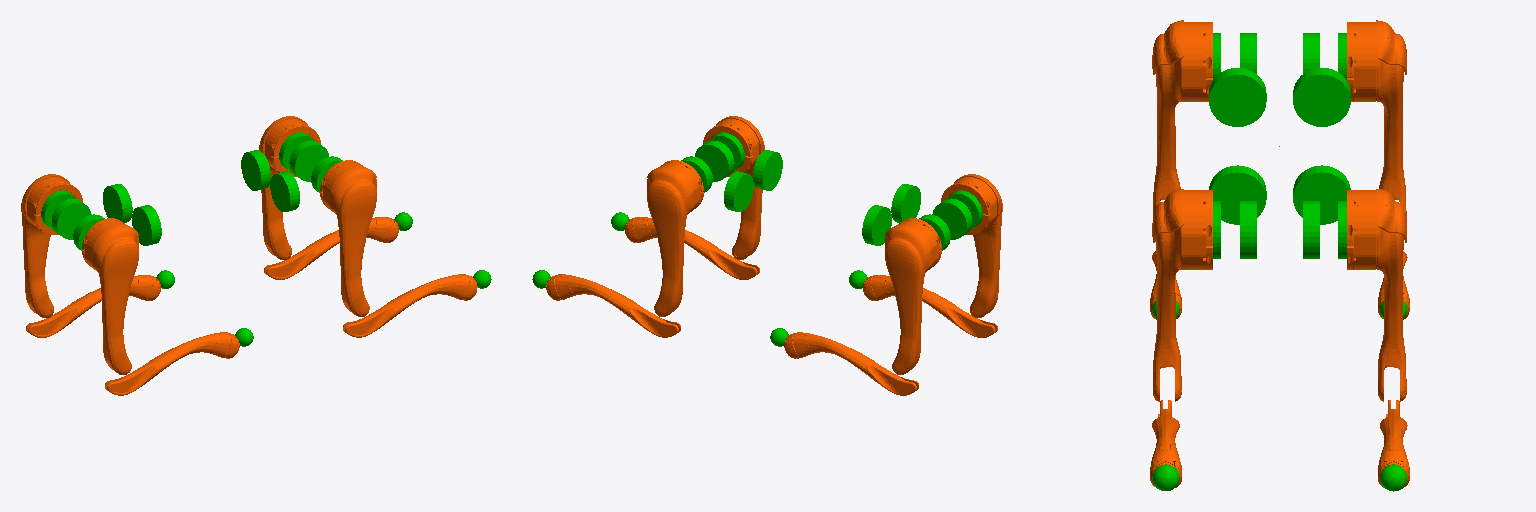
--- Render facts (derived) ---
3 views of the same robot in one strip: view 1: azimuth 30°, elevation 25°; view 2: azimuth 150°, elevation 25°; view 3: azimuth 270°, elevation 25° (orthographic).
Robot: aliengoZ1_description — 40 links, 39 joints (18 revolute, 21 fixed); root link base; default pose: all joints at 0 but 4 set to mid-range because 0 is outside their limits (FR_calf_joint = -1.71, FL_calf_joint = -1.71, RR_calf_joint = -1.71, RL_calf_joint = -1.71).
Visible links, largest first — view 1: RR_thigh, FR_thigh, RL_thigh, FL_thigh, RR_calf, FR_calf, FL_calf, RL_calf, FL_calf_rotor, RL_calf_rotor, FL_hip_rotor, FR_hip_rotor (+2 smaller); view 2: FL_thigh, RL_thigh, RR_thigh, FR_thigh, RL_calf, FL_calf, FR_calf, RR_calf, RR_calf_rotor, FR_calf_rotor, FR_hip_rotor, FL_hip_rotor (+2 smaller); view 3: FR_thigh, FL_thigh, RR_thigh, RL_thigh, RL_hip_rotor, RR_hip_rotor, FR_hip_rotor, FL_hip_rotor, FR_calf, FL_calf, FR_calf_rotor, FL_calf_rotor (+4 smaller).
Boxes of the visible links, bbox=[...] form: RR_thigh: bbox=[82, 218, 138, 374]; FR_thigh: bbox=[320, 160, 376, 316]; RL_thigh: bbox=[21, 174, 82, 317]; FL_thigh: bbox=[259, 116, 320, 259]; RR_calf: bbox=[105, 332, 239, 395]; FR_calf: bbox=[343, 274, 477, 337]; FL_calf: bbox=[264, 217, 398, 279]; RL_calf: bbox=[26, 275, 160, 337]; FL_calf_rotor: bbox=[289, 140, 328, 181]; RL_calf_rotor: bbox=[52, 199, 91, 239]; FL_hip_rotor: bbox=[241, 150, 270, 190]; FR_hip_rotor: bbox=[270, 171, 299, 211]; FL_thigh: bbox=[647, 160, 703, 316]; RL_thigh: bbox=[885, 218, 941, 374]; RR_thigh: bbox=[941, 174, 1002, 317]; FR_thigh: bbox=[703, 116, 764, 259]; RL_calf: bbox=[784, 332, 918, 395]; FL_calf: bbox=[546, 274, 680, 337]; FR_calf: bbox=[625, 217, 759, 279]; RR_calf: bbox=[863, 275, 997, 337]; RR_calf_rotor: bbox=[932, 198, 971, 239]; FR_calf_rotor: bbox=[695, 140, 734, 181]; FR_hip_rotor: bbox=[753, 150, 782, 190]; FL_hip_rotor: bbox=[724, 171, 753, 211]; FR_thigh: bbox=[1152, 189, 1212, 401]; FL_thigh: bbox=[1347, 189, 1406, 401]; RR_thigh: bbox=[1152, 20, 1212, 214]; RL_thigh: bbox=[1347, 20, 1406, 217]; RL_hip_rotor: bbox=[1293, 68, 1350, 126]; RR_hip_rotor: bbox=[1209, 68, 1266, 126]; FR_hip_rotor: bbox=[1209, 165, 1266, 224]; FL_hip_rotor: bbox=[1293, 165, 1350, 224]; FR_calf: bbox=[1150, 400, 1181, 487]; FL_calf: bbox=[1378, 400, 1409, 488]; FR_calf_rotor: bbox=[1240, 201, 1256, 258]; FL_calf_rotor: bbox=[1303, 201, 1319, 258].
Size in the robot's own frame: 0.7938 by 0.3152 by 0.3199 metres.
8 mesh visuals loaded from 14 distinct referenced files (3 Collada DAE); not drawn: 14 (reference not matched to a file when rendering).

robot.urdf — aliengoZ1_description:
<?xml version="1.0" ?>
<!-- =================================================================================== -->
<!-- |    This document was autogenerated by xacro from robot.xacro                    | -->
<!-- |    EDITING THIS FILE BY HAND IS NOT RECOMMENDED                                 | -->
<!-- =================================================================================== -->
<robot name="aliengoZ1_description">
  <!-- <gazebo>
    <plugin filename="libgazebo_ros_control.so" name="gazebo_ros_control">
      <robotNamespace>/aliengoZ1_gazebo</robotNamespace>
      <robotSimType>gazebo_ros_control/DefaultRobotHWSim</robotSimType>
    </plugin>
  </gazebo> -->

  <!-- <gazebo>
    <plugin filename="libLinkPlot3DPlugin.so" name="3dplot">
      <frequency>10</frequency>
      <plot>
        <link>base</link>
        <pose>0 0 0 0 0 0</pose>
        <material>Gazebo/Yellow</material>
      </plot>
    </plugin>
  </gazebo> -->
  <!-- Show the trajectory of foot. You can add another trajectory about another foot. -->
  <!-- <gazebo>
        <plugin name="3dplot" filename="libLinkPlot3DPlugin.so">
            <frequency>100</frequency>
            <plot>
                <link>FL_foot</link>
                <pose>0 0 0 0 0 0</pose>
                <material>Gazebo/Green</material>
            </plot>
        </plugin>
    </gazebo> -->
  <!-- <gazebo>
    <plugin filename="libgazebo_ros_force.so" name="gazebo_ros_force">
      <bodyName>trunk</bodyName>
      <topicName>/apply_force/trunk</topicName>
    </plugin>
  </gazebo>
  <gazebo reference="imu_link">
    <gravity>true</gravity>
    <sensor name="imu_sensor" type="imu">
      <always_on>true</always_on>
      <update_rate>1000</update_rate>
      <visualize>true</visualize>
      <topic>__default_topic__</topic>
      <plugin filename="libgazebo_ros_imu_sensor.so" name="imu_plugin">
        <topicName>trunk_imu</topicName>
        <bodyName>imu_link</bodyName>
        <updateRateHZ>1000.0</updateRateHZ>
        <gaussianNoise>0.0</gaussianNoise>
        <xyzOffset>0 0 0</xyzOffset>
        <rpyOffset>0 0 0</rpyOffset>
        <frameName>imu_link</frameName>
      </plugin>
      <pose>0 0 0 0 0 0</pose>
    </sensor>
  </gazebo> -->
  <!-- Foot contacts. -->
  <!-- <gazebo reference="FR_calf">
    <sensor name="FR_foot_contact" type="contact">
      <update_rate>100</update_rate>
      <plugin filename="libunitreeFootContactPlugin.so" name="contactPlugin"/>
      <contact>
        <collision>FR_calf_fixed_joint_lump__FR_foot_collision_1</collision>
      </contact>
    </sensor>
  </gazebo>
  <gazebo reference="FL_calf">
    <sensor name="FL_foot_contact" type="contact">
      <update_rate>100</update_rate>
      <plugin filename="libunitreeFootContactPlugin.so" name="contactPlugin"/>
      <contact>
        <collision>FL_calf_fixed_joint_lump__FL_foot_collision_1</collision>
      </contact>
    </sensor>
  </gazebo>
  <gazebo reference="RR_calf">
    <sensor name="RR_foot_contact" type="contact">
      <update_rate>100</update_rate>
      <plugin filename="libunitreeFootContactPlugin.so" name="contactPlugin"/>
      <contact>
        <collision>RR_calf_fixed_joint_lump__RR_foot_collision_1</collision>
      </contact>
    </sensor>
  </gazebo>
  <gazebo reference="RL_calf">
    <sensor name="RL_foot_contact" type="contact">
      <update_rate>100</update_rate>
      <plugin filename="libunitreeFootContactPlugin.so" name="contactPlugin"/>
      <contact>
        <collision>RL_calf_fixed_joint_lump__RL_foot_collision_1</collision>
      </contact>
    </sensor>
  </gazebo> -->
  <!-- Visualization of Foot contacts. -->
  <!-- <gazebo reference="FR_foot">
    <visual>
      <plugin filename="libunitreeDrawForcePlugin.so" name="drawForcePlugin">
        <topicName>FR_foot_contact</topicName>
      </plugin>
    </visual>
  </gazebo>
  <gazebo reference="FL_foot">
    <visual>
      <plugin filename="libunitreeDrawForcePlugin.so" name="drawForcePlugin">
        <topicName>FL_foot_contact</topicName>
      </plugin>
    </visual>
  </gazebo>
  <gazebo reference="RR_foot">
    <visual>
      <plugin filename="libunitreeDrawForcePlugin.so" name="drawForcePlugin">
        <topicName>RR_foot_contact</topicName>
      </plugin>
    </visual>
  </gazebo>
  <gazebo reference="RL_foot">
    <visual>
      <plugin filename="libunitreeDrawForcePlugin.so" name="drawForcePlugin">
        <topicName>RL_foot_contact</topicName>
      </plugin>
    </visual>
  </gazebo>
  <gazebo reference="base">
    <material>Gazebo/Green</material>
    <turnGravityOff>false</turnGravityOff>
  </gazebo>
  <gazebo reference="trunk">
    <mu1>0.2</mu1>
    <mu2>0.2</mu2>
    <kp value="1000000.0"/>
    <kd value="1.0"/>
  </gazebo>
  <gazebo reference="stick_link">
    <mu1>0.2</mu1>
    <mu2>0.2</mu2>
    <material>Gazebo/White</material>
  </gazebo>
  <gazebo reference="imu_link">
    <mu1>0.2</mu1>
    <mu2>0.2</mu2>
    <material>Gazebo/Red</material>
  </gazebo> -->
  <!-- FL leg -->
  <!-- <gazebo reference="FL_hip">
    <mu1>0.2</mu1>
    <mu2>0.2</mu2>
    <material>Gazebo/DarkGrey</material>
  </gazebo>
  <gazebo reference="FL_thigh">
    <mu1>0.2</mu1>
    <mu2>0.2</mu2>
    <self_collide>1</self_collide>
    <material>Gazebo/DarkGrey</material>
    <kp value="1000000.0"/>
    <kd value="1.0"/>
  </gazebo>
  <gazebo reference="FL_calf">
    <mu1>0.2</mu1>
    <mu2>0.2</mu2>
    <self_collide>1</self_collide>
  </gazebo>
  <gazebo reference="FL_foot">
    <mu1>0.6</mu1>
    <mu2>0.6</mu2>
    <self_collide>1</self_collide>
    <material>Gazebo/DarkGrey</material>
    <kp value="1000000.0"/>
    <kd value="1.0"/>
  </gazebo> -->
  <!-- FR leg -->
  <!-- <gazebo reference="FR_hip">
    <mu1>0.2</mu1>
    <mu2>0.2</mu2>
    <material>Gazebo/DarkGrey</material>
  </gazebo>
  <gazebo reference="FR_thigh">
    <mu1>0.2</mu1>
    <mu2>0.2</mu2>
    <self_collide>1</self_collide>
    <material>Gazebo/DarkGrey</material>
    <kp value="1000000.0"/>
    <kd value="1.0"/>
  </gazebo>
  <gazebo reference="FR_calf">
    <mu1>0.2</mu1>
    <mu2>0.2</mu2>
    <self_collide>1</self_collide>
  </gazebo>
  <gazebo reference="FR_foot">
    <mu1>0.6</mu1>
    <mu2>0.6</mu2>
    <self_collide>1</self_collide>
    <material>Gazebo/DarkGrey</material>
    <kp value="1000000.0"/>
    <kd value="1.0"/> -->
  <!-- </gazebo> -->
  <!-- RL leg -->
  <!-- <gazebo reference="RL_hip">
    <mu1>0.2</mu1>
    <mu2>0.2</mu2>
    <material>Gazebo/DarkGrey</material>
  </gazebo>
  <gazebo reference="RL_thigh">
    <mu1>0.2</mu1>
    <mu2>0.2</mu2>
    <self_collide>1</self_collide>
    <material>Gazebo/DarkGrey</material>
    <kp value="1000000.0"/>
    <kd value="1.0"/>
  </gazebo>
  <gazebo reference="RL_calf">
    <mu1>0.2</mu1>
    <mu2>0.2</mu2>
    <self_collide>1</self_collide>
  </gazebo>
  <gazebo reference="RL_foot">
    <mu1>0.6</mu1>
    <mu2>0.6</mu2>
    <self_collide>1</self_collide>
    <material>Gazebo/DarkGrey</material>
    <kp value="1000000.0"/>
    <kd value="1.0"/>
  </gazebo> -->
  <!-- RR leg -->
  <!-- <gazebo reference="RR_hip">
    <mu1>0.2</mu1>
    <mu2>0.2</mu2>
    <material>Gazebo/DarkGrey</material>
  </gazebo>
  <gazebo reference="RR_thigh">
    <mu1>0.2</mu1>
    <mu2>0.2</mu2>
    <self_collide>1</self_collide>
    <material>Gazebo/DarkGrey</material>
    <kp value="1000000.0"/>
    <kd value="1.0"/>
  </gazebo>
  <gazebo reference="RR_calf">
    <mu1>0.2</mu1>
    <mu2>0.2</mu2>
    <self_collide>1</self_collide>
  </gazebo>
  <gazebo reference="RR_foot">
    <mu1>0.6</mu1>
    <mu2>0.6</mu2>
    <self_collide>1</self_collide>
    <material>Gazebo/DarkGrey</material>
    <kp value="1000000.0"/>
    <kd value="1.0"/>
  </gazebo> -->
  <!-- ros_control plugin -->
  <!-- <gazebo reference="arm_link04">
    <self_collide>true</self_collide>
  </gazebo>
  <gazebo reference="arm_link05">
    <self_collide>true</self_collide>
  </gazebo>
  <gazebo reference="arm_link06">
    <self_collide>true</self_collide>
  </gazebo> -->
  <material name="black">
    <color rgba="0.0 0.0 0.0 1.0"/>
  </material>
  <material name="blue">
    <color rgba="0.0 0.0 0.8 1.0"/>
  </material>
  <material name="green">
    <color rgba="0.0 0.8 0.0 1.0"/>
  </material>
  <material name="grey">
    <color rgba="0.2 0.2 0.2 1.0"/>
  </material>
  <material name="silver">
    <color rgba="0.9137254901960784 0.9137254901960784 0.8470588235294118 1.0"/>
  </material>
  <material name="orange">
    <color rgba="1.0 0.4235294117647059 0.0392156862745098 1.0"/>
  </material>
  <material name="brown">
    <color rgba="0.8705882352941177 0.8117647058823529 0.7647058823529411 1.0"/>
  </material>
  <material name="red">
    <color rgba="0.8 0.0 0.0 1.0"/>
  </material>
  <material name="white">
    <color rgba="1.0 1.0 1.0 1.0"/>
  </material>
  <link name="base">
    <visual>
      <origin rpy="0 0 0" xyz="0 0 0"/>
      <geometry>
        <box size="0.001 0.001 0.001"/>
      </geometry>
    </visual>
  </link>
  <joint name="floating_base" type="fixed">
    <origin rpy="0 0 0" xyz="0 0 0"/>
    <parent link="base"/>
    <child link="trunk"/>
  </joint>
  <link name="trunk">
    <visual>
      <origin rpy="0 0 0" xyz="0 0 0"/>
      <geometry>
        <mesh filename="../meshes/trunk.dae" scale="1 1 1"/>
      </geometry>
      <material name="orange"/>
    </visual>
    <collision>
      <origin rpy="0 0 0" xyz="0 0 0"/>
      <geometry>
        <box size="0.647 0.15 0.112"/>
      </geometry>
    </collision>
    <inertial>
      <origin rpy="0 0 0" xyz="0.008811 0.003839 0.000273"/>
      <mass value="11.644"/>
      <inertia ixx="0.051944892" ixy="0.001703617" ixz="0.000235941" iyy="0.24693924" iyz="0.000119783" izz="0.270948307"/>
    </inertial>
  </link>
  <joint name="imu_joint" type="fixed">
    <parent link="trunk"/>
    <child link="imu_link"/>
    <origin rpy="0 0 0" xyz="0 0 0"/>
  </joint>
  <link name="imu_link">
    <inertial>
      <mass value="0.001"/>
      <origin rpy="0 0 0" xyz="0 0 0"/>
      <inertia ixx="0.0001" ixy="0" ixz="0" iyy="0.000001" iyz="0" izz="0.0001"/>
    </inertial>
    <visual>
      <origin rpy="0 0 0" xyz="0 0 0"/>
      <geometry>
        <box size="0.001 0.001 0.001"/>
      </geometry>
      <material name="red"/>
    </visual>
    <collision>
      <origin rpy="0 0 0" xyz="0 0 0"/>
      <geometry>
        <box size=".001 .001 .001"/>
      </geometry>
    </collision>
  </link>
   --&gt;

    
  <joint name="trunk_arm_joint0" type="fixed" dont_collapse="true">
    <origin rpy="0 0 0" xyz="0.2535 0 0.056"/>
    <parent link="trunk"/>
    <child link="arm_link00"/>
  </joint>
  <link name="arm_link00">
    <visual>
      <origin rpy="0 0 0" xyz="0 0 0"/>
      <geometry>
        <mesh filename="../meshes/z1_description/meshes/visual/z1_Link00.dae" scale="1 1 1"/>
      </geometry>
    </visual>
    <collision>
      <geometry>
        <cylinder length="0.051" radius="0.0325"/>
      </geometry>
      <origin rpy="0 0 0" xyz="0 0 0.0255"/>
    </collision>
    <inertial>
      <origin rpy="0 0 0" xyz="-0.00334984 -0.00013615 0.02495843"/>
      <mass value="0.47247481"/>
      <inertia ixx="0.00037937" ixy="-3.5e-07" ixz="-1.037e-05" iyy="0.00041521" iyz="-9.9e-07" izz="0.00053066"/>
    </inertial>
  </link>
  <joint name="arm_joint1" type="revolute">
    <origin rpy="0 0 0" xyz="0 0 0.0585"/>
    <parent link="arm_link00"/>
    <child link="arm_link01"/>
    <axis xyz="0 0 1"/>
    <dynamics damping="1.0" friction="1.0"/>
    <limit effort="30.0" lower="-2.6179938779914944" upper="2.6179938779914944" velocity="3.1415"/>
  </joint>
  <link name="arm_link01">
    <visual>
      <origin rpy="0 0 0" xyz="0 0 0"/>
      <geometry>
        <mesh filename="../meshes/z1_description/meshes/visual/z1_Link01.dae" scale="1 1 1"/>
      </geometry>
    </visual>
    <collision>
      <geometry>
        <cylinder length="0.102" radius="0.0325"/>
      </geometry>
      <origin rpy="0 0 0" xyz="0 0 0"/>
    </collision>
    <inertial>
      <origin rpy="0 0 0" xyz="2.47e-06 -0.00025198 0.02317169"/>
      <mass value="0.67332551"/>
      <inertia ixx="0.00128328" ixy="-6e-08" ixz="-4e-07" iyy="0.00071931" iyz="5e-07" izz="0.00083936"/>
    </inertial>
  </link>
  <joint name="arm_joint2" type="revolute">
    <origin rpy="0 0 0" xyz="0 0 0.045"/>
    <parent link="arm_link01"/>
    <child link="arm_link02"/>
    <axis xyz="0 1 0"/>
    <dynamics damping="2.0" friction="2.0"/>
    <limit effort="60.0" lower="0.0" upper="2.9670597283903604" velocity="3.1415"/>
  </joint>
  <link name="arm_link02">
    <visual>
      <origin rpy="0 0 0" xyz="0 0 0"/>
      <geometry>
        <mesh filename="../meshes/z1_description/meshes/visual/z1_Link02.dae" scale="1 1 1"/>
      </geometry>
    </visual>
    <collision>
      <geometry>
        <cylinder length="0.102" radius="0.0325"/>
      </geometry>
      <origin rpy="1.5707963267948966 0 0" xyz="0 0 0"/>
    </collision>
    <collision>
      <geometry>
        <cylinder length="0.235" radius="0.0225"/>
      </geometry>
      <origin rpy="0 1.5707963267948966 0" xyz="-0.16249999999999998 0 0"/>
    </collision>
    <collision>
      <geometry>
        <cylinder length="0.051" radius="0.0325"/>
      </geometry>
      <origin rpy="1.5707963267948966 0 0" xyz="-0.35 0 0"/>
    </collision>
    <inertial>
      <origin rpy="0 0 0" xyz="-0.11012601 0.00240029 0.00158266"/>
      <mass value="1.19132258"/>
      <inertia ixx="0.00102138" ixy="0.00062358" ixz="5.13e-06" iyy="0.02429457" iyz="-2.1e-06" izz="0.02466114"/>
    </inertial>
  </link>
  <joint name="arm_joint3" type="revolute">
    <origin rpy="0 0 0" xyz="-0.35 0 0"/>
    <parent link="arm_link02"/>
    <child link="arm_link03"/>
    <axis xyz="0 1 0"/>
    <dynamics damping="1.0" friction="1.0"/>
    <limit effort="30.0" lower="-2.8797932657906435" upper="0.0" velocity="3.1415"/>
  </joint>
  <link name="arm_link03">
    <visual>
      <origin rpy="0 0 0" xyz="0 0 0"/>
      <geometry>
        <mesh filename="../meshes/z1_description/meshes/visual/z1_Link03.dae" scale="1 1 1"/>
      </geometry>
    </visual>
    <collision>
      <geometry>
        <cylinder length="0.116" radius="0.02"/>
      </geometry>
      <origin rpy="0 1.5707963267948966 0" xyz="0.128 0 0.055"/>
    </collision>
    <collision>
      <geometry>
        <cylinder length="0.059" radius="0.0325"/>
      </geometry>
      <origin rpy="0 1.5707963267948966 1.5707963267948966" xyz="0.2205 0 0.055"/>
    </collision>
    <inertial>
      <origin rpy="0 0 0" xyz="0.10609208 -0.00541815 0.03476383"/>
      <mass value="0.83940874"/>
      <inertia ixx="0.00108061" ixy="-8.669e-05" ixz="-0.00208102" iyy="0.00954238" iyz="-1.332e-05" izz="0.00886621"/>
    </inertial>
  </link>
  <joint name="arm_joint4" type="revolute">
    <origin rpy="0 0 0" xyz="0.218 0 0.057"/>
    <parent link="arm_link03"/>
    <child link="arm_link04"/>
    <axis xyz="0 1 0"/>
    <dynamics damping="1.0" friction="1.0"/>
    <limit effort="30.0" lower="-1.5184364492350666" upper="1.5184364492350666" velocity="3.1415"/>
  </joint>
  <link name="arm_link04">
    <visual>
      <origin rpy="0 0 0" xyz="0 0 0"/>
      <geometry>
        <mesh filename="../meshes/z1_description/meshes/visual/z1_Link04.dae" scale="1 1 1"/>
      </geometry>
    </visual>
    <collision>
      <geometry>
        <cylinder length="0.067" radius="0.0325"/>
      </geometry>
      <origin rpy="0 0 0" xyz="0.072 0 0"/>
    </collision>
    <inertial>
      <origin rpy="0 0 0" xyz="0.04366681 0.00364738 -0.00170192"/>
      <mass value="0.56404563"/>
      <inertia ixx="0.00031576" ixy="8.13e-05" ixz="4.091e-05" iyy="0.00092996" iyz="-5.96e-06" izz="0.00097912"/>
    </inertial>
  </link>
  <joint name="arm_joint5" type="revolute">
    <origin rpy="0 0 0" xyz="0.07 0.0 0.0"/>
    <parent link="arm_link04"/>
    <child link="arm_link05"/>
    <axis xyz="0 0 1"/>
    <dynamics damping="1.0" friction="1.0"/>
    <limit effort="30.0" lower="-1.3439035240356338" upper="1.3439035240356338" velocity="3.1415"/>
  </joint>
  <link name="arm_link05">
    <visual>
      <origin rpy="0 0 0" xyz="0 0 0"/>
      <geometry>
        <mesh filename="../meshes/z1_description/meshes/visual/z1_Link05.dae" scale="1 1 1"/>
      </geometry>
    </visual>
    <inertial>
      <origin rpy="0 0 0" xyz="0.03121533 0.0 0.00646316"/>
      <mass value="0.38938492"/>
      <inertia ixx="0.00017605" ixy="4e-07" ixz="5.689e-05" iyy="0.00055896" iyz="-1.3e-07" izz="0.0005386"/>
    </inertial>
  </link>
  <joint name="arm_joint6" type="revolute">
    <origin rpy="0 0 0" xyz="0.0492 0.0 0.0"/>
    <parent link="arm_link05"/>
    <child link="arm_link06"/>
    <axis xyz="1 0 0"/>
    <dynamics damping="1.0" friction="1.0"/>
    <limit effort="30.0" lower="-2.792526803190927" upper="2.792526803190927" velocity="3.1415"/>
  </joint>
  <link name="arm_link06">
    <visual>
      <origin rpy="0 0 0" xyz="0 0 0"/>
      <geometry>
        <mesh filename="../meshes/z1_description/meshes/visual/z1_Link06.dae" scale="1 1 1"/>
      </geometry>
    </visual>
    <collision>
      <geometry>
        <cylinder length="0.051" radius="0.0325"/>
      </geometry>
      <origin rpy="0 1.5707963267948966 0" xyz="0.0255 0 0"/>
    </collision>
    <inertial>
      <origin rpy="0 0 0" xyz="0.0241569 -0.00017355 -0.00143876"/>
      <mass value="0.28875807"/>
      <inertia ixx="0.00018328" ixy="1.22e-06" ixz="5.4e-07" iyy="0.0001475" iyz="8e-08" izz="0.0001468"/>
    </inertial>
  </link>
  <joint name="gripperStator" type="fixed">
    <origin rpy="0 0 0" xyz="0.051 0.0 0.0"/>
    <parent link="arm_link06"/>
    <child link="gripperStator"/>
  </joint>
  <link name="gripperStator">
    <visual>
      <geometry>
        <mesh filename="../meshes/z1_description/meshes/visual/z1_GripperStator.dae" scale="1 1 1"/>
      </geometry>
    </visual>
    <collision>
      <geometry>
        <mesh filename="../meshes/z1_description/meshes/collision/z1_GripperStator.STL" scale="1 1 1"/>
      </geometry>
    </collision>
    <inertial>
      <origin rpy="0 0 0" xyz="0.04764427 -0.00035819 -0.00249162"/>
      <mass value="0.52603655"/>
      <inertia ixx="0.00038683" ixy="-3.59e-06" ixz="7.662e-05" iyy="0.00068614" iyz="2.09e-06" izz="0.00066293"/>
    </inertial>
  </link>
  <joint name="jointGripper" type="fixed" dont_collapse="true">
    <origin rpy="0 0 0" xyz="0.049 0.0 0"/>
    <parent link="gripperStator"/>
    <child link="gripperMover"/>
    <axis xyz="0 1 0"/>
    <dynamics damping="1.0" friction="1.0"/>
    <limit effort="30.0" lower="-1.5707963267948966" upper="0.0" velocity="3.1415"/>
  </joint>
  <link name="gripperMover">
    <visual>
      <geometry>
        <mesh filename="../meshes/z1_description/meshes/visual/z1_GripperMover.dae" scale="1 1 1"/>
      </geometry>
    </visual>
    <collision>
      <geometry>
        <mesh filename="../meshes/z1_description/meshes/collision/z1_GripperMover.STL" scale="1 1 1"/>
      </geometry>
    </collision>
    <inertial>
      <origin rpy="0 0 0" xyz="0.01320633 0.00476708 0.00380534"/>
      <mass value="0.27621302"/>
      <inertia ixx="0.00017716" ixy="1.683e-05" ixz="-1.786e-05" iyy="0.00026787" iyz="2.62e-06" izz="0.00035728"/>
    </inertial>
  </link>
  <transmission name="JointTransGripper">
    <type>transmission_interface/SimpleTransmission</type>
    <joint name="jointGripper">
      <hardwareInterface>hardware_interface/EffortJointInterface</hardwareInterface>
    </joint>
    <actuator name="ActuatorGripper">
      <hardwareInterface>hardware_interface/EffortJointInterface</hardwareInterface>
      <mechanicalReduction>1</mechanicalReduction>
    </actuator>
  </transmission>
  <!-- <gazebo reference="gripperStator">
    <self_collide>true</self_collide>
  </gazebo>
  <gazebo reference="gripperMover">
    <self_collide>true</self_collide>
  </gazebo> -->
  <transmission name="JointTrans1">
    <type>transmission_interface/SimpleTransmission</type>
    <joint name="joint1">
      <hardwareInterface>hardware_interface/EffortJointInterface</hardwareInterface>
    </joint>
    <actuator name="Actuator1">
      <hardwareInterface>hardware_interface/EffortJointInterface</hardwareInterface>
      <mechanicalReduction>1</mechanicalReduction>
    </actuator>
  </transmission>
  <transmission name="JointTrans2">
    <type>transmission_interface/SimpleTransmission</type>
    <joint name="joint2">
      <hardwareInterface>hardware_interface/EffortJointInterface</hardwareInterface>
    </joint>
    <actuator name="Actuator2">
      <hardwareInterface>hardware_interface/EffortJointInterface</hardwareInterface>
      <mechanicalReduction>1</mechanicalReduction>
    </actuator>
  </transmission>
  <transmission name="JointTrans3">
    <type>transmission_interface/SimpleTransmission</type>
    <joint name="joint3">
      <hardwareInterface>hardware_interface/EffortJointInterface</hardwareInterface>
    </joint>
    <actuator name="Actuator3">
      <hardwareInterface>hardware_interface/EffortJointInterface</hardwareInterface>
      <mechanicalReduction>1</mechanicalReduction>
    </actuator>
  </transmission>
  <transmission name="JointTrans4">
    <type>transmission_interface/SimpleTransmission</type>
    <joint name="joint4">
      <hardwareInterface>hardware_interface/EffortJointInterface</hardwareInterface>
    </joint>
    <actuator name="Actuator4">
      <hardwareInterface>hardware_interface/EffortJointInterface</hardwareInterface>
      <mechanicalReduction>1</mechanicalReduction>
    </actuator>
  </transmission>
  <transmission name="JointTrans5">
    <type>transmission_interface/SimpleTransmission</type>
    <joint name="joint5">
      <hardwareInterface>hardware_interface/EffortJointInterface</hardwareInterface>
    </joint>
    <actuator name="Actuator5">
      <hardwareInterface>hardware_interface/EffortJointInterface</hardwareInterface>
      <mechanicalReduction>1</mechanicalReduction>
    </actuator>
  </transmission>
  <transmission name="JointTrans6">
    <type>transmission_interface/SimpleTransmission</type>
    <joint name="joint6">
      <hardwareInterface>hardware_interface/EffortJointInterface</hardwareInterface>
    </joint>
    <actuator name="Actuator6">
      <hardwareInterface>hardware_interface/EffortJointInterface</hardwareInterface>
      <mechanicalReduction>1</mechanicalReduction>
    </actuator>
  </transmission>
  <joint name="FR_hip_joint" type="revolute">
    <origin rpy="0 0 0" xyz="0.2407 -0.051 0"/>
    <parent link="trunk"/>
    <child link="FR_hip"/>
    <axis xyz="1 0 0"/>
    <dynamics damping="0" friction="0"/>
    <limit effort="35.278" lower="-1.2217304763960306" upper="1.2217304763960306" velocity="20"/>
  </joint>
  <joint name="FR_hip_rotor_joint" type="fixed">
    <origin rpy="0 0 0" xyz="0.139985 -0.051 0"/>
    <parent link="trunk"/>
    <child link="FR_hip_rotor"/>
  </joint>
  <link name="FR_hip">
    <visual>
      <origin rpy="3.141592653589793 0 0" xyz="0 0 0"/>
      <geometry>
        <mesh filename="../meshes/hip.dae" scale="1 1 1"/>
      </geometry>
      <material name="orange"/>
    </visual>
    <collision>
      <origin rpy="1.5707963267948966 0 0" xyz="0 -0.083 0"/>
      <geometry>
        <cylinder length="0.0418" radius="0.046"/>
      </geometry>
    </collision>
    <inertial>
      <origin rpy="0 0 0" xyz="-0.022191 -0.015144 -1.5e-05"/>
      <mass value="1.993"/>
      <inertia ixx="0.002446735" ixy="0.00059805" ixz="1.945e-06" iyy="0.003925876" iyz="-1.284e-06" izz="0.004148145"/>
    </inertial>
  </link>
  <link name="FR_hip_rotor">
    <visual>
      <origin rpy="0 1.5707963267948966 0" xyz="0 0 0"/>
      <geometry>
        <cylinder length="0.02" radius="0.035"/>
      </geometry>
      <material name="green"/>
    </visual>
    <!-- <collision>
                <origin rpy="0 ${PI/2.0} 0" xyz="0 0 0"/>
                <geometry>
                    <cylinder length="0.02" radius="0.035"/>
                </geometry>
            </collision> -->
    <inertial>
      <origin rpy="0 0 0" xyz="0.0 0.0 0.0"/>
      <mass value="0.146"/>
      <inertia ixx="0.000138702" ixy="0.0" ixz="0.0" iyy="8.3352e-05" iyz="0.0" izz="8.3352e-05"/>
    </inertial>
  </link>
  <joint name="FR_thigh_joint" type="revolute">
    <origin rpy="0 0 0" xyz="0 -0.0868 0"/>
    <parent link="FR_hip"/>
    <child link="FR_thigh"/>
    <axis xyz="0 1 0"/>
    <dynamics damping="0" friction="0"/>
    <limit effort="35.278" lower="-0.524" upper="3.927" velocity="20"/>
  </joint>
  <joint name="FR_thigh_rotor_joint" type="fixed">
    <origin rpy="0 0 0" xyz="0.0 -0.0298 0"/>
    <parent link="FR_hip"/>
    <child link="FR_thigh_rotor"/>
  </joint>
  <link name="FR_thigh">
    <visual>
      <origin rpy="0 0 0" xyz="0 0 0"/>
      <geometry>
        <mesh filename="../meshes/thigh_mirror.dae" scale="1 1 1"/>
      </geometry>
      <material name="orange"/>
    </visual>
    <collision>
      <origin rpy="0 1.5707963267948966 0" xyz="0 0 -0.125"/>
      <geometry>
        <box size="0.25 0.0374 0.043"/>
      </geometry>
    </collision>
    <inertial>
      <origin rpy="0 0 0" xyz="-0.005607 0.003877 -0.048199"/>
      <mass value="0.639"/>
      <inertia ixx="0.004173855" ixy="-1.0284e-05" ixz="-0.000318874" iyy="0.004343802" iyz="-0.000109233" izz="0.000340136"/>
    </inertial>
  </link>
  <link name="FR_thigh_rotor">
    <visual>
      <origin rpy="1.5707963267948966 0 0" xyz="0 0 0"/>
      <geometry>
        <cylinder length="0.02" radius="0.035"/>
      </geometry>
      <material name="green"/>
    </visual>
    <!-- <collision>
                <origin rpy="${PI/2.0} 0 0" xyz="0 0 0"/>
                <geometry>
                    <cylinder length="0.02" radius="0.035"/>
                </geometry>
            </collision> -->
    <inertial>
      <origin rpy="0 0 0" xyz="0.0 0.0 0.0"/>
      <mass value="0.146"/>
      <inertia ixx="8.3352e-05" ixy="0.0" ixz="0.0" iyy="0.000138702" iyz="0.0" izz="8.3352e-05"/>
    </inertial>
  </link>
  <joint name="FR_calf_joint" type="revolute">
    <origin rpy="0 0 0" xyz="0 0 -0.25"/>
    <parent link="FR_thigh"/>
    <child link="FR_calf"/>
    <axis xyz="0 1 0"/>
    <dynamics damping="0" friction="0"/>
    <limit effort="44.4" lower="-2.775073510670984" upper="-0.6457718232379019" velocity="15.89"/>
  </joint>
  <joint name="FR_calf_rotor_joint" type="fixed">
    <origin rpy="0 0 0" xyz="0.0 0.0997 0"/>
    <parent link="FR_thigh"/>
    <child link="FR_calf_rotor"/>
  </joint>
  <link name="FR_calf">
    <visual>
      <origin rpy="0 0 0" xyz="0 0 0"/>
      <geometry>
        <mesh filename="../meshes/calf.dae" scale="1 1 1"/>
      </geometry>
      <material name="orange"/>
    </visual>
    <collision>
      <origin rpy="0 1.5707963267948966 0" xyz="0 0 -0.125"/>
      <geometry>
        <box size="0.25 0.0208 0.016"/>
      </geometry>
    </collision>
    <inertial>
      <origin rpy="0 0 0" xyz="0.002781 6.3e-05 -0.142518"/>
      <mass value="0.207"/>
      <inertia ixx="0.002129279" ixy="3.9e-08" ixz="5.757e-06" iyy="0.002141463" iyz="-5.16e-07" izz="3.7583e-05"/>
    </inertial>
  </link>
  <link name="FR_calf_rotor">
    <visual>
      <origin rpy="1.5707963267948966 0 0" xyz="0 0 0"/>
      <geometry>
        <cylinder length="0.02" radius="0.035"/>
      </geometry>
      <material name="green"/>
    </visual>
    <!-- <collision>
                <origin rpy="${PI/2.0} 0 0" xyz="0 0 0"/>
                <geometry>
                    <cylinder length="0.02" radius="0.035"/>
                </geometry>
            </collision> -->
    <inertial>
      <origin rpy="0 0 0" xyz="0.0 0.0 0.0"/>
      <mass value="0.132"/>
      <inertia ixx="0.000145463" ixy="0.0" ixz="0.0" iyy="0.000133031" iyz="0.0" izz="0.000145463"/>
    </inertial>
  </link>
  <joint name="FR_foot_fixed" type="fixed" dont_collapse="true">
    <origin rpy="0 0 0" xyz="0 0 -0.25"/>
    <parent link="FR_calf"/>
    <child link="FR_foot"/>
  </joint>
  <link name="FR_foot">
    <visual>
      <origin rpy="0 0 0" xyz="0 0 0"/>
      <geometry>
        <sphere radius="0.0165"/>
      </geometry>
      <material name="green"/>
    </visual>
    <collision>
      <origin rpy="0 0 0" xyz="0 0 0"/>
      <geometry>
        <sphere radius="0.0265"/>
      </geometry>
    </collision>
    <inertial>
      <mass value="0.06"/>
      <inertia ixx="1.6853999999999998e-05" ixy="0.0" ixz="0.0" iyy="1.6853999999999998e-05" iyz="0.0" izz="1.6853999999999998e-05"/>
    </inertial>
  </link>
  <transmission name="FR_hip_tran">
    <type>transmission_interface/SimpleTransmission</type>
    <joint name="FR_hip_joint">
      <hardwareInterface>hardware_interface/EffortJointInterface</hardwareInterface>
    </joint>
    <actuator name="FR_hip_motor">
      <hardwareInterface>hardware_interface/EffortJointInterface</hardwareInterface>
      <mechanicalReduction>1</mechanicalReduction>
    </actuator>
  </transmission>
  <transmission name="FR_thigh_tran">
    <type>transmission_interface/SimpleTransmission</type>
    <joint name="FR_thigh_joint">
      <hardwareInterface>hardware_interface/EffortJointInterface</hardwareInterface>
    </joint>
    <actuator name="FR_thigh_motor">
      <hardwareInterface>hardware_interface/EffortJointInterface</hardwareInterface>
      <mechanicalReduction>1</mechanicalReduction>
    </actuator>
  </transmission>
  <transmission name="FR_calf_tran">
    <type>transmission_interface/SimpleTransmission</type>
    <joint name="FR_calf_joint">
      <hardwareInterface>hardware_interface/EffortJointInterface</hardwareInterface>
    </joint>
    <actuator name="FR_calf_motor">
      <hardwareInterface>hardware_interface/EffortJointInterface</hardwareInterface>
      <mechanicalReduction>1</mechanicalReduction>
    </actuator>
  </transmission>
  <joint name="FL_hip_joint" type="revolute">
    <origin rpy="0 0 0" xyz="0.2407 0.051 0"/>
    <parent link="trunk"/>
    <child link="FL_hip"/>
    <axis xyz="1 0 0"/>
    <dynamics damping="0" friction="0"/>
    <limit effort="35.278" lower="-1.2217304763960306" upper="1.2217304763960306" velocity="20"/>
  </joint>
  <joint name="FL_hip_rotor_joint" type="fixed">
    <origin rpy="0 0 0" xyz="0.139985 0.051 0"/>
    <parent link="trunk"/>
    <child link="FL_hip_rotor"/>
  </joint>
  <link name="FL_hip">
    <visual>
      <origin rpy="0 0 0" xyz="0 0 0"/>
      <geometry>
        <mesh filename="../meshes/hip.dae" scale="1 1 1"/>
      </geometry>
      <material name="orange"/>
    </visual>
    <collision>
      <origin rpy="1.5707963267948966 0 0" xyz="0 0.083 0"/>
      <geometry>
        <cylinder length="0.0418" radius="0.046"/>
      </geometry>
    </collision>
    <inertial>
      <origin rpy="0 0 0" xyz="-0.022191 0.015144 -1.5e-05"/>
      <mass value="1.993"/>
      <inertia ixx="0.002446735" ixy="-0.00059805" ixz="1.945e-06" iyy="0.003925876" iyz="1.284e-06" izz="0.004148145"/>
    </inertial>
  </link>
  <link name="FL_hip_rotor">
    <visual>
      <origin rpy="0 1.5707963267948966 0" xyz="0 0 0"/>
      <geometry>
        <cylinder length="0.02" radius="0.035"/>
      </geometry>
      <material name="green"/>
    </visual>
    <!-- <collision>
                <origin rpy="0 ${PI/2.0} 0" xyz="0 0 0"/>
                <geometry>
                    <cylinder length="0.02" radius="0.035"/>
                </geometry>
            </collision> -->
    <inertial>
      <origin rpy="0 0 0" xyz="0.0 0.0 0.0"/>
      <mass value="0.146"/>
      <inertia ixx="0.000138702" ixy="0.0" ixz="0.0" iyy="8.3352e-05" iyz="0.0" izz="8.3352e-05"/>
    </inertial>
  </link>
  <joint name="FL_thigh_joint" type="revolute">
    <origin rpy="0 0 0" xyz="0 0.0868 0"/>
    <parent link="FL_hip"/>
    <child link="FL_thigh"/>
    <axis xyz="0 1 0"/>
    <dynamics damping="0" friction="0"/>
    <limit effort="35.278" lower="-0.524" upper="3.927" velocity="20"/>
  </joint>
  <joint name="FL_thigh_rotor_joint" type="fixed">
    <origin rpy="0 0 0" xyz="0.0 0.0298 0"/>
    <parent link="FL_hip"/>
    <child link="FL_thigh_rotor"/>
  </joint>
  <link name="FL_thigh">
    <visual>
      <origin rpy="0 0 0" xyz="0 0 0"/>
      <geometry>
        <mesh filename="../meshes/thigh.dae" scale="1 1 1"/>
      </geometry>
      <material name="orange"/>
    </visual>
    <collision>
      <origin rpy="0 1.5707963267948966 0" xyz="0 0 -0.125"/>
      <geometry>
        <box size="0.25 0.0374 0.043"/>
      </geometry>
    </collision>
    <inertial>
      <origin rpy="0 0 0" xyz="-0.005607 -0.003877 -0.048199"/>
      <mass value="0.639"/>
      <inertia ixx="0.004173855" ixy="1.0284e-05" ixz="-0.000318874" iyy="0.004343802" iyz="0.000109233" izz="0.000340136"/>
    </inertial>
  </link>
  <link name="FL_thigh_rotor">
    <visual>
      <origin rpy="1.5707963267948966 0 0" xyz="0 0 0"/>
      <geometry>
        <cylinder length="0.02" radius="0.035"/>
      </geometry>
      <material name="green"/>
    </visual>
    <!-- <collision>
                <origin rpy="${PI/2.0} 0 0" xyz="0 0 0"/>
                <geometry>
                    <cylinder length="0.02" radius="0.035"/>
                </geometry>
            </collision> -->
    <inertial>
      <origin rpy="0 0 0" xyz="0.0 0.0 0.0"/>
      <mass value="0.146"/>
      <inertia ixx="8.3352e-05" ixy="0.0" ixz="0.0" iyy="0.000138702" iyz="0.0" izz="8.3352e-05"/>
    </inertial>
  </link>
  <joint name="FL_calf_joint" type="revolute">
    <origin rpy="0 0 0" xyz="0 0 -0.25"/>
    <parent link="FL_thigh"/>
    <child link="FL_calf"/>
    <axis xyz="0 1 0"/>
    <dynamics damping="0" friction="0"/>
    <limit effort="44.4" lower="-2.775073510670984" upper="-0.6457718232379019" velocity="15.89"/>
  </joint>
  <joint name="FL_calf_rotor_joint" type="fixed">
    <origin rpy="0 0 0" xyz="0.0 -0.0997 0"/>
    <parent link="FL_thigh"/>
    <child link="FL_calf_rotor"/>
  </joint>
  <link name="FL_calf">
    <visual>
      <origin rpy="0 0 0" xyz="0 0 0"/>
      <geometry>
        <mesh filename="../meshes/calf.dae" scale="1 1 1"/>
      </geometry>
      <material name="orange"/>
    </visual>
    <collision>
      <origin rpy="0 1.5707963267948966 0" xyz="0 0 -0.125"/>
      <geometry>
        <box size="0.25 0.0208 0.016"/>
      </geometry>
    </collision>
    <inertial>
      <origin rpy="0 0 0" xyz="0.002781 6.3e-05 -0.142518"/>
      <mass value="0.207"/>
      <inertia ixx="0.002129279" ixy="3.9e-08" ixz="5.757e-06" iyy="0.002141463" iyz="-5.16e-07" izz="3.7583e-05"/>
    </inertial>
  </link>
  <link name="FL_calf_rotor">
    <visual>
      <origin rpy="1.5707963267948966 0 0" xyz="0 0 0"/>
      <geometry>
        <cylinder length="0.02" radius="0.035"/>
      </geometry>
      <material name="green"/>
    </visual>
    <!-- <collision>
                <origin rpy="${PI/2.0} 0 0" xyz="0 0 0"/>
                <geometry>
                    <cylinder length="0.02" radius="0.035"/>
                </geometry>
            </collision> -->
    <inertial>
      <origin rpy="0 0 0" xyz="0.0 0.0 0.0"/>
      <mass value="0.132"/>
      <inertia ixx="0.000145463" ixy="0.0" ixz="0.0" iyy="0.000133031" iyz="0.0" izz="0.000145463"/>
    </inertial>
  </link>
  <joint name="FL_foot_fixed" type="fixed" dont_collapse="true">
    <origin rpy="0 0 0" xyz="0 0 -0.25"/>
    <parent link="FL_calf"/>
    <child link="FL_foot"/>
  </joint>
  <link name="FL_foot">
    <visual>
      <origin rpy="0 0 0" xyz="0 0 0"/>
      <geometry>
        <sphere radius="0.0165"/>
      </geometry>
      <material name="green"/>
    </visual>
    <collision>
      <origin rpy="0 0 0" xyz="0 0 0"/>
      <geometry>
        <sphere radius="0.0265"/>
      </geometry>
    </collision>
    <inertial>
      <mass value="0.06"/>
      <inertia ixx="1.6853999999999998e-05" ixy="0.0" ixz="0.0" iyy="1.6853999999999998e-05" iyz="0.0" izz="1.6853999999999998e-05"/>
    </inertial>
  </link>
  <transmission name="FL_hip_tran">
    <type>transmission_interface/SimpleTransmission</type>
    <joint name="FL_hip_joint">
      <hardwareInterface>hardware_interface/EffortJointInterface</hardwareInterface>
    </joint>
    <actuator name="FL_hip_motor">
      <hardwareInterface>hardware_interface/EffortJointInterface</hardwareInterface>
      <mechanicalReduction>1</mechanicalReduction>
    </actuator>
  </transmission>
  <transmission name="FL_thigh_tran">
    <type>transmission_interface/SimpleTransmission</type>
    <joint name="FL_thigh_joint">
      <hardwareInterface>hardware_interface/EffortJointInterface</hardwareInterface>
    </joint>
    <actuator name="FL_thigh_motor">
      <hardwareInterface>hardware_interface/EffortJointInterface</hardwareInterface>
      <mechanicalReduction>1</mechanicalReduction>
    </actuator>
  </transmission>
  <transmission name="FL_calf_tran">
    <type>transmission_interface/SimpleTransmission</type>
    <joint name="FL_calf_joint">
      <hardwareInterface>hardware_interface/EffortJointInterface</hardwareInterface>
    </joint>
    <actuator name="FL_calf_motor">
      <hardwareInterface>hardware_interface/EffortJointInterface</hardwareInterface>
      <mechanicalReduction>1</mechanicalReduction>
    </actuator>
  </transmission>
  <joint name="RR_hip_joint" type="revolute">
    <origin rpy="0 0 0" xyz="-0.2407 -0.051 0"/>
    <parent link="trunk"/>
    <child link="RR_hip"/>
    <axis xyz="1 0 0"/>
    <dynamics damping="0" friction="0"/>
    <limit effort="35.278" lower="-1.2217304763960306" upper="1.2217304763960306" velocity="20"/>
  </joint>
  <joint name="RR_hip_rotor_joint" type="fixed">
    <origin rpy="0 0 0" xyz="-0.139985 -0.051 0"/>
    <parent link="trunk"/>
    <child link="RR_hip_rotor"/>
  </joint>
  <link name="RR_hip">
    <visual>
      <origin rpy="3.141592653589793 3.141592653589793 0" xyz="0 0 0"/>
      <geometry>
        <mesh filename="../meshes/hip.dae" scale="1 1 1"/>
      </geometry>
      <material name="orange"/>
    </visual>
    <collision>
      <origin rpy="1.5707963267948966 0 0" xyz="0 -0.083 0"/>
      <geometry>
        <cylinder length="0.0418" radius="0.046"/>
      </geometry>
    </collision>
    <inertial>
      <origin rpy="0 0 0" xyz="0.022191 -0.015144 -1.5e-05"/>
      <mass value="1.993"/>
      <inertia ixx="0.002446735" ixy="-0.00059805" ixz="-1.945e-06" iyy="0.003925876" iyz="-1.284e-06" izz="0.004148145"/>
    </inertial>
  </link>
  <link name="RR_hip_rotor">
    <visual>
      <origin rpy="0 1.5707963267948966 0" xyz="0 0 0"/>
      <geometry>
        <cylinder length="0.02" radius="0.035"/>
      </geometry>
      <material name="green"/>
    </visual>
    <!-- <collision>
                <origin rpy="0 ${PI/2.0} 0" xyz="0 0 0"/>
                <geometry>
                    <cylinder length="0.02" radius="0.035"/>
                </geometry>
            </collision> -->
    <inertial>
      <origin rpy="0 0 0" xyz="0.0 0.0 0.0"/>
      <mass value="0.146"/>
      <inertia ixx="0.000138702" ixy="0.0" ixz="0.0" iyy="8.3352e-05" iyz="0.0" izz="8.3352e-05"/>
    </inertial>
  </link>
  <joint name="RR_thigh_joint" type="revolute">
    <origin rpy="0 0 0" xyz="0 -0.0868 0"/>
    <parent link="RR_hip"/>
    <child link="RR_thigh"/>
    <axis xyz="0 1 0"/>
    <dynamics damping="0" friction="0"/>
    <limit effort="35.278" lower="-0.524" upper="3.927" velocity="20"/>
  </joint>
  <joint name="RR_thigh_rotor_joint" type="fixed">
    <origin rpy="0 0 0" xyz="0.0 -0.0298 0"/>
    <parent link="RR_hip"/>
    <child link="RR_thigh_rotor"/>
  </joint>
  <link name="RR_thigh">
    <visual>
      <origin rpy="0 0 0" xyz="0 0 0"/>
      <geometry>
        <mesh filename="../meshes/thigh_mirror.dae" scale="1 1 1"/>
      </geometry>
      <material name="orange"/>
    </visual>
    <collision>
      <origin rpy="0 1.5707963267948966 0" xyz="0 0 -0.125"/>
      <geometry>
        <box size="0.25 0.0374 0.043"/>
      </geometry>
    </collision>
    <inertial>
      <origin rpy="0 0 0" xyz="-0.005607 0.003877 -0.048199"/>
      <mass value="0.639"/>
      <inertia ixx="0.004173855" ixy="-1.0284e-05" ixz="-0.000318874" iyy="0.004343802" iyz="-0.000109233" izz="0.000340136"/>
    </inertial>
  </link>
  <link name="RR_thigh_rotor">
    <visual>
      <origin rpy="1.5707963267948966 0 0" xyz="0 0 0"/>
      <geometry>
        <cylinder length="0.02" radius="0.035"/>
      </geometry>
      <material name="green"/>
    </visual>
    <!-- <collision>
                <origin rpy="${PI/2.0} 0 0" xyz="0 0 0"/>
                <geometry>
                    <cylinder length="0.02" radius="0.035"/>
                </geometry>
            </collision> -->
    <inertial>
      <origin rpy="0 0 0" xyz="0.0 0.0 0.0"/>
      <mass value="0.146"/>
      <inertia ixx="8.3352e-05" ixy="0.0" ixz="0.0" iyy="0.000138702" iyz="0.0" izz="8.3352e-05"/>
    </inertial>
  </link>
  <joint name="RR_calf_joint" type="revolute">
    <origin rpy="0 0 0" xyz="0 0 -0.25"/>
    <parent link="RR_thigh"/>
    <child link="RR_calf"/>
    <axis xyz="0 1 0"/>
    <dynamics damping="0" friction="0"/>
    <limit effort="44.4" lower="-2.775073510670984" upper="-0.6457718232379019" velocity="15.89"/>
  </joint>
  <joint name="RR_calf_rotor_joint" type="fixed">
    <origin rpy="0 0 0" xyz="0.0 0.0997 0"/>
    <parent link="RR_thigh"/>
    <child link="RR_calf_rotor"/>
  </joint>
  <link name="RR_calf">
    <visual>
      <origin rpy="0 0 0" xyz="0 0 0"/>
      <geometry>
        <mesh filename="../meshes/calf.dae" scale="1 1 1"/>
      </geometry>
      <material name="orange"/>
    </visual>
    <collision>
      <origin rpy="0 1.5707963267948966 0" xyz="0 0 -0.125"/>
      <geometry>
        <box size="0.25 0.0208 0.016"/>
      </geometry>
    </collision>
    <inertial>
      <origin rpy="0 0 0" xyz="0.002781 6.3e-05 -0.142518"/>
      <mass value="0.207"/>
      <inertia ixx="0.002129279" ixy="3.9e-08" ixz="5.757e-06" iyy="0.002141463" iyz="-5.16e-07" izz="3.7583e-05"/>
    </inertial>
  </link>
  <link name="RR_calf_rotor">
    <visual>
      <origin rpy="1.5707963267948966 0 0" xyz="0 0 0"/>
      <geometry>
        <cylinder length="0.02" radius="0.035"/>
      </geometry>
      <material name="green"/>
    </visual>
    <!-- <collision>
                <origin rpy="${PI/2.0} 0 0" xyz="0 0 0"/>
                <geometry>
                    <cylinder length="0.02" radius="0.035"/>
                </geometry>
            </collision> -->
    <inertial>
      <origin rpy="0 0 0" xyz="0.0 0.0 0.0"/>
      <mass value="0.132"/>
      <inertia ixx="0.000145463" ixy="0.0" ixz="0.0" iyy="0.000133031" iyz="0.0" izz="0.000145463"/>
    </inertial>
  </link>
  <joint name="RR_foot_fixed" type="fixed" dont_collapse="true">
    <origin rpy="0 0 0" xyz="0 0 -0.25"/>
    <parent link="RR_calf"/>
    <child link="RR_foot"/>
  </joint>
  <link name="RR_foot">
    <visual>
      <origin rpy="0 0 0" xyz="0 0 0"/>
      <geometry>
        <sphere radius="0.0165"/>
      </geometry>
      <material name="green"/>
    </visual>
    <collision>
      <origin rpy="0 0 0" xyz="0 0 0"/>
      <geometry>
        <sphere radius="0.0265"/>
      </geometry>
    </collision>
    <inertial>
      <mass value="0.06"/>
      <inertia ixx="1.6853999999999998e-05" ixy="0.0" ixz="0.0" iyy="1.6853999999999998e-05" iyz="0.0" izz="1.6853999999999998e-05"/>
    </inertial>
  </link>
  <transmission name="RR_hip_tran">
    <type>transmission_interface/SimpleTransmission</type>
    <joint name="RR_hip_joint">
      <hardwareInterface>hardware_interface/EffortJointInterface</hardwareInterface>
    </joint>
    <actuator name="RR_hip_motor">
      <hardwareInterface>hardware_interface/EffortJointInterface</hardwareInterface>
      <mechanicalReduction>1</mechanicalReduction>
    </actuator>
  </transmission>
  <transmission name="RR_thigh_tran">
    <type>transmission_interface/SimpleTransmission</type>
    <joint name="RR_thigh_joint">
      <hardwareInterface>hardware_interface/EffortJointInterface</hardwareInterface>
    </joint>
    <actuator name="RR_thigh_motor">
      <hardwareInterface>hardware_interface/EffortJointInterface</hardwareInterface>
      <mechanicalReduction>1</mechanicalReduction>
    </actuator>
  </transmission>
  <transmission name="RR_calf_tran">
    <type>transmission_interface/SimpleTransmission</type>
    <joint name="RR_calf_joint">
      <hardwareInterface>hardware_interface/EffortJointInterface</hardwareInterface>
    </joint>
    <actuator name="RR_calf_motor">
      <hardwareInterface>hardware_interface/EffortJointInterface</hardwareInterface>
      <mechanicalReduction>1</mechanicalReduction>
    </actuator>
  </transmission>
  <joint name="RL_hip_joint" type="revolute">
    <origin rpy="0 0 0" xyz="-0.2407 0.051 0"/>
    <parent link="trunk"/>
    <child link="RL_hip"/>
    <axis xyz="1 0 0"/>
    <dynamics damping="0" friction="0"/>
    <limit effort="35.278" lower="-1.2217304763960306" upper="1.2217304763960306" velocity="20"/>
  </joint>
  <joint name="RL_hip_rotor_joint" type="fixed">
    <origin rpy="0 0 0" xyz="-0.139985 0.051 0"/>
    <parent link="trunk"/>
    <child link="RL_hip_rotor"/>
  </joint>
  <link name="RL_hip">
    <visual>
      <origin rpy="0 3.141592653589793 0" xyz="0 0 0"/>
      <geometry>
        <mesh filename="../meshes/hip.dae" scale="1 1 1"/>
      </geometry>
      <material name="orange"/>
    </visual>
    <collision>
      <origin rpy="1.5707963267948966 0 0" xyz="0 0.083 0"/>
      <geometry>
        <cylinder length="0.0418" radius="0.046"/>
      </geometry>
    </collision>
    <inertial>
      <origin rpy="0 0 0" xyz="0.022191 0.015144 -1.5e-05"/>
      <mass value="1.993"/>
      <inertia ixx="0.002446735" ixy="0.00059805" ixz="-1.945e-06" iyy="0.003925876" iyz="1.284e-06" izz="0.004148145"/>
    </inertial>
  </link>
  <link name="RL_hip_rotor">
    <visual>
      <origin rpy="0 1.5707963267948966 0" xyz="0 0 0"/>
      <geometry>
        <cylinder length="0.02" radius="0.035"/>
      </geometry>
      <material name="green"/>
    </visual>
    <!-- <collision>
                <origin rpy="0 ${PI/2.0} 0" xyz="0 0 0"/>
                <geometry>
                    <cylinder length="0.02" radius="0.035"/>
                </geometry>
            </collision> -->
    <inertial>
      <origin rpy="0 0 0" xyz="0.0 0.0 0.0"/>
      <mass value="0.146"/>
      <inertia ixx="0.000138702" ixy="0.0" ixz="0.0" iyy="8.3352e-05" iyz="0.0" izz="8.3352e-05"/>
    </inertial>
  </link>
  <joint name="RL_thigh_joint" type="revolute">
    <origin rpy="0 0 0" xyz="0 0.0868 0"/>
    <parent link="RL_hip"/>
    <child link="RL_thigh"/>
    <axis xyz="0 1 0"/>
    <dynamics damping="0" friction="0"/>
    <limit effort="35.278"  lower="-0.524" upper="3.927" velocity="20"/>
  </joint>
  <joint name="RL_thigh_rotor_joint" type="fixed">
    <origin rpy="0 0 0" xyz="0.0 0.0298 0"/>
    <parent link="RL_hip"/>
    <child link="RL_thigh_rotor"/>
  </joint>
  <link name="RL_thigh">
    <visual>
      <origin rpy="0 0 0" xyz="0 0 0"/>
      <geometry>
        <mesh filename="../meshes/thigh.dae" scale="1 1 1"/>
      </geometry>
      <material name="orange"/>
    </visual>
    <collision>
      <origin rpy="0 1.5707963267948966 0" xyz="0 0 -0.125"/>
      <geometry>
        <box size="0.25 0.0374 0.043"/>
      </geometry>
    </collision>
    <inertial>
      <origin rpy="0 0 0" xyz="-0.005607 -0.003877 -0.048199"/>
      <mass value="0.639"/>
      <inertia ixx="0.004173855" ixy="1.0284e-05" ixz="-0.000318874" iyy="0.004343802" iyz="0.000109233" izz="0.000340136"/>
    </inertial>
  </link>
  <link name="RL_thigh_rotor">
    <visual>
      <origin rpy="1.5707963267948966 0 0" xyz="0 0 0"/>
      <geometry>
        <cylinder length="0.02" radius="0.035"/>
      </geometry>
      <material name="green"/>
    </visual>
    <!-- <collision>
                <origin rpy="${PI/2.0} 0 0" xyz="0 0 0"/>
                <geometry>
                    <cylinder length="0.02" radius="0.035"/>
                </geometry>
            </collision> -->
    <inertial>
      <origin rpy="0 0 0" xyz="0.0 0.0 0.0"/>
      <mass value="0.146"/>
      <inertia ixx="8.3352e-05" ixy="0.0" ixz="0.0" iyy="0.000138702" iyz="0.0" izz="8.3352e-05"/>
    </inertial>
  </link>
  <joint name="RL_calf_joint" type="revolute">
    <origin rpy="0 0 0" xyz="0 0 -0.25"/>
    <parent link="RL_thigh"/>
    <child link="RL_calf"/>
    <axis xyz="0 1 0"/>
    <dynamics damping="0" friction="0"/>
    <limit effort="44.4" lower="-2.775073510670984" upper="-0.6457718232379019" velocity="15.89"/>
  </joint>
  <joint name="RL_calf_rotor_joint" type="fixed">
    <origin rpy="0 0 0" xyz="0.0 -0.0997 0"/>
    <parent link="RL_thigh"/>
    <child link="RL_calf_rotor"/>
  </joint>
  <link name="RL_calf">
    <visual>
      <origin rpy="0 0 0" xyz="0 0 0"/>
      <geometry>
        <mesh filename="../meshes/calf.dae" scale="1 1 1"/>
      </geometry>
      <material name="orange"/>
    </visual>
    <collision>
      <origin rpy="0 1.5707963267948966 0" xyz="0 0 -0.125"/>
      <geometry>
        <box size="0.25 0.0208 0.016"/>
      </geometry>
    </collision>
    <inertial>
      <origin rpy="0 0 0" xyz="0.002781 6.3e-05 -0.142518"/>
      <mass value="0.207"/>
      <inertia ixx="0.002129279" ixy="3.9e-08" ixz="5.757e-06" iyy="0.002141463" iyz="-5.16e-07" izz="3.7583e-05"/>
    </inertial>
  </link>
  <link name="RL_calf_rotor">
    <visual>
      <origin rpy="1.5707963267948966 0 0" xyz="0 0 0"/>
      <geometry>
        <cylinder length="0.02" radius="0.035"/>
      </geometry>
      <material name="green"/>
    </visual>
    <!-- <collision>
                <origin rpy="${PI/2.0} 0 0" xyz="0 0 0"/>
                <geometry>
                    <cylinder length="0.02" radius="0.035"/>
                </geometry>
            </collision> -->
    <inertial>
      <origin rpy="0 0 0" xyz="0.0 0.0 0.0"/>
      <mass value="0.132"/>
      <inertia ixx="0.000145463" ixy="0.0" ixz="0.0" iyy="0.000133031" iyz="0.0" izz="0.000145463"/>
    </inertial>
  </link>
  <joint name="RL_foot_fixed" type="fixed" dont_collapse="true">
    <origin rpy="0 0 0" xyz="0 0 -0.25"/>
    <parent link="RL_calf"/>
    <child link="RL_foot"/>
  </joint>
  <link name="RL_foot">
    <visual>
      <origin rpy="0 0 0" xyz="0 0 0"/>
      <geometry>
        <sphere radius="0.0165"/>
      </geometry>
      <material name="green"/>
    </visual>
    <collision>
      <origin rpy="0 0 0" xyz="0 0 0"/>
      <geometry>
        <sphere radius="0.0265"/>
      </geometry>
    </collision>
    <inertial>
      <mass value="0.06"/>
      <inertia ixx="1.6853999999999998e-05" ixy="0.0" ixz="0.0" iyy="1.6853999999999998e-05" iyz="0.0" izz="1.6853999999999998e-05"/>
    </inertial>
  </link>
  <transmission name="RL_hip_tran">
    <type>transmission_interface/SimpleTransmission</type>
    <joint name="RL_hip_joint">
      <hardwareInterface>hardware_interface/EffortJointInterface</hardwareInterface>
    </joint>
    <actuator name="RL_hip_motor">
      <hardwareInterface>hardware_interface/EffortJointInterface</hardwareInterface>
      <mechanicalReduction>1</mechanicalReduction>
    </actuator>
  </transmission>
  <transmission name="RL_thigh_tran">
    <type>transmission_interface/SimpleTransmission</type>
    <joint name="RL_thigh_joint">
      <hardwareInterface>hardware_interface/EffortJointInterface</hardwareInterface>
    </joint>
    <actuator name="RL_thigh_motor">
      <hardwareInterface>hardware_interface/EffortJointInterface</hardwareInterface>
      <mechanicalReduction>1</mechanicalReduction>
    </actuator>
  </transmission>
  <transmission name="RL_calf_tran">
    <type>transmission_interface/SimpleTransmission</type>
    <joint name="RL_calf_joint">
      <hardwareInterface>hardware_interface/EffortJointInterface</hardwareInterface>
    </joint>
    <actuator name="RL_calf_motor">
      <hardwareInterface>hardware_interface/EffortJointInterface</hardwareInterface>
      <mechanicalReduction>1</mechanicalReduction>
    </actuator>
  </transmission>
</robot>
